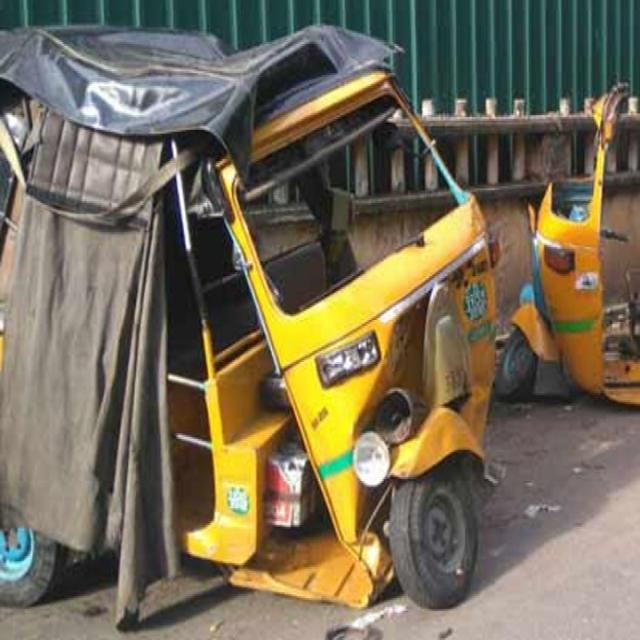accident: (0, 25, 496, 624), (496, 85, 640, 406)
